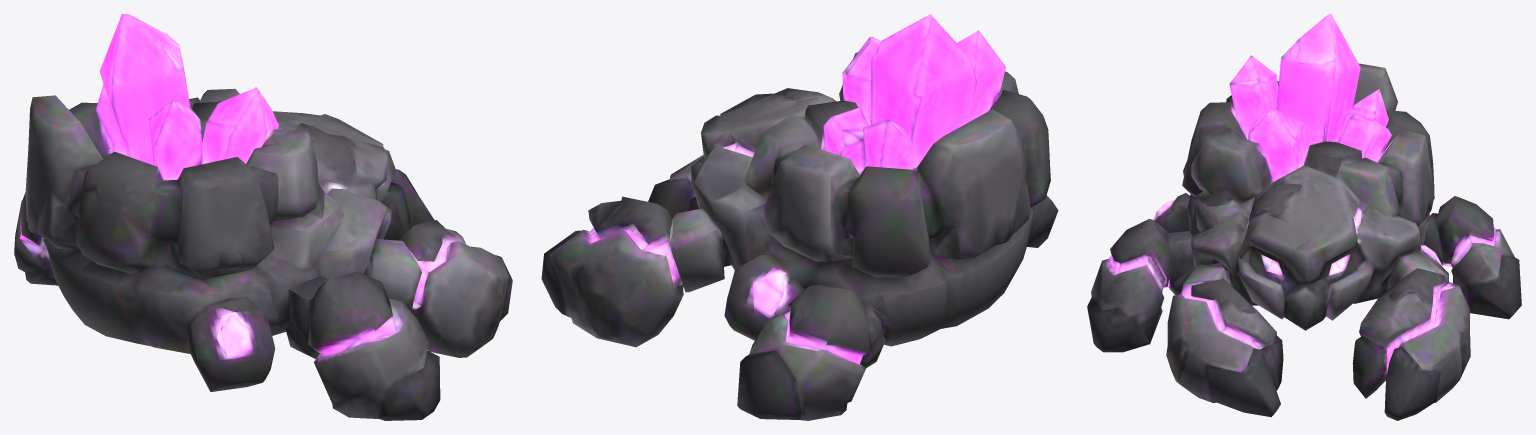
The model's file is enemy-golem-harvester.glb.
3 views of the same model, side by side, from view 1: azimuth 30°, elevation 25°; view 2: azimuth 150°, elevation 25°; view 3: azimuth 270°, elevation 25° (orthographic). The views are drawn at different scales.
Visible parts, largest first — view 1: enemy-golem-harvester-body; view 2: enemy-golem-harvester-body; view 3: enemy-golem-harvester-body.
Part boxes in pixels (x1,y1,x2,y2): enemy-golem-harvester-body: (14,14,512,420); enemy-golem-harvester-body: (541,14,1058,420); enemy-golem-harvester-body: (1087,14,1521,420).
Bounding box in the file's own units: 0.938 × 0.6935 × 1.
1 material, 1 textured.
